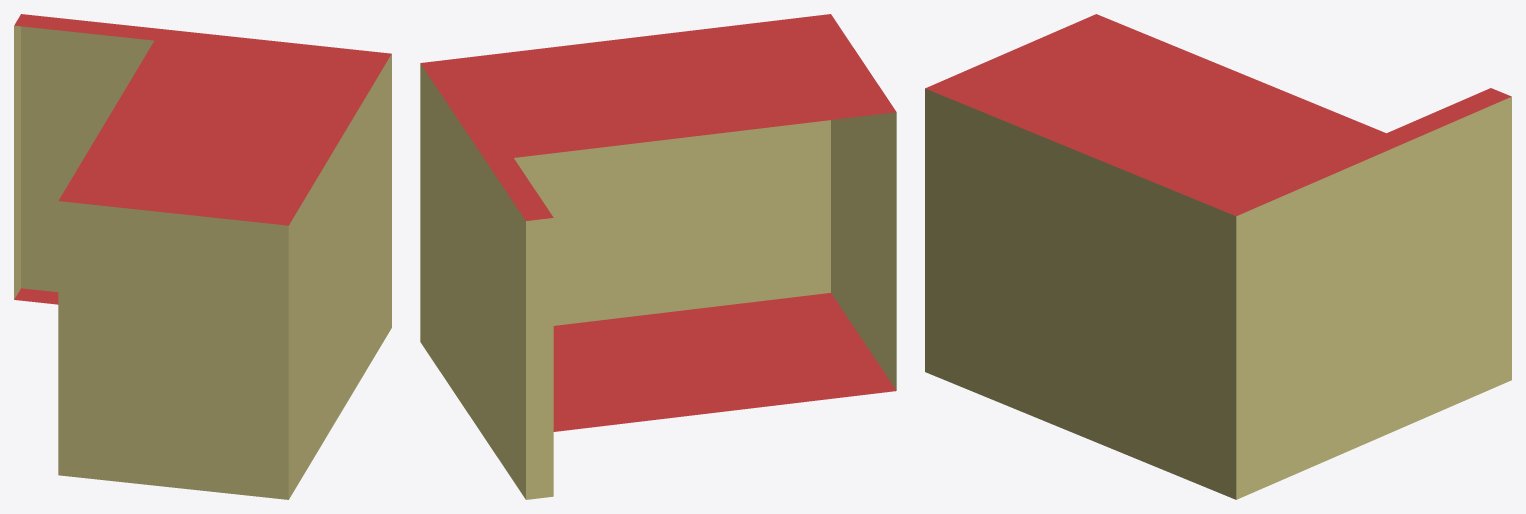
3 views of the same model, side by side, from view 1: azimuth 30°, elevation 25°; view 2: azimuth 150°, elevation 25°; view 3: azimuth 270°, elevation 25° (orthographic). The views are drawn at different scales.
Size of the model in its own units: 8.16 by 10.01 by 5.33.
